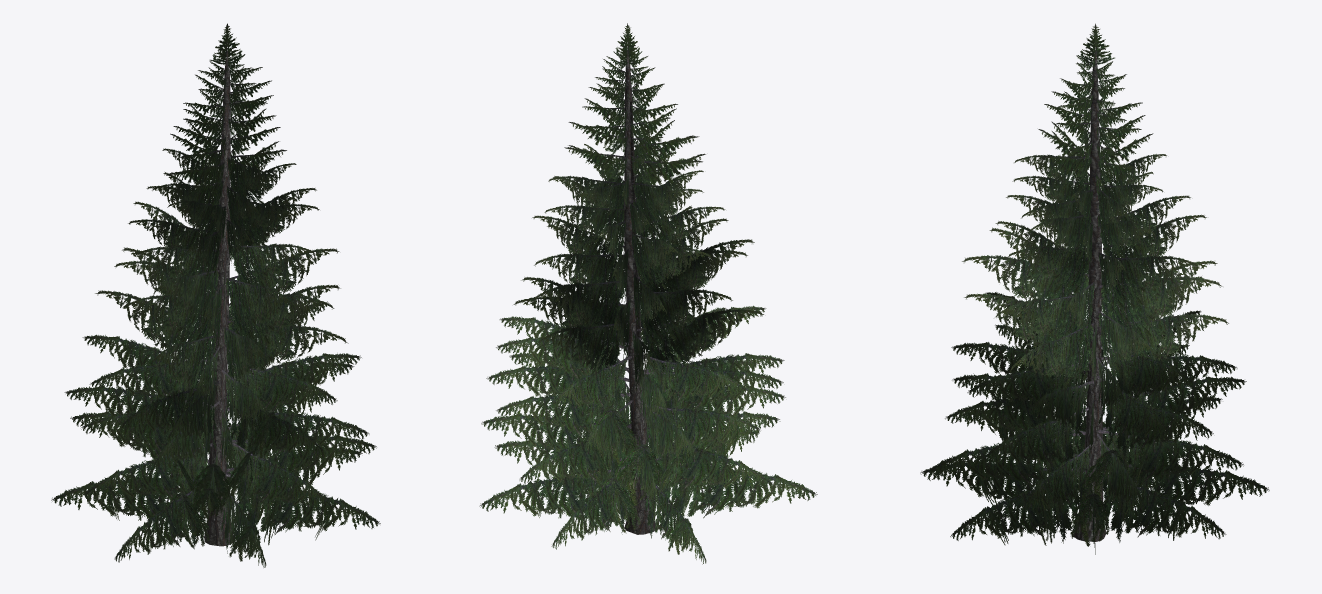
File: AlpinePlant03.FBX
3 views of the same model, side by side, from view 1: azimuth 30°, elevation 25°; view 2: azimuth 150°, elevation 25°; view 3: azimuth 270°, elevation 25° (orthographic). The views are drawn at different scales.
Parts seen in each view (by area): view 1: AlpinePlant03; view 2: AlpinePlant03; view 3: AlpinePlant03.
Boxes of the visible parts, box(x1,y1,x2,y2) form: AlpinePlant03: box(51, 23, 380, 567); AlpinePlant03: box(479, 23, 817, 564); AlpinePlant03: box(920, 23, 1269, 554).
Size of the model in its own units: 880 by 1272 by 889.
2 materials, 2 textured.
